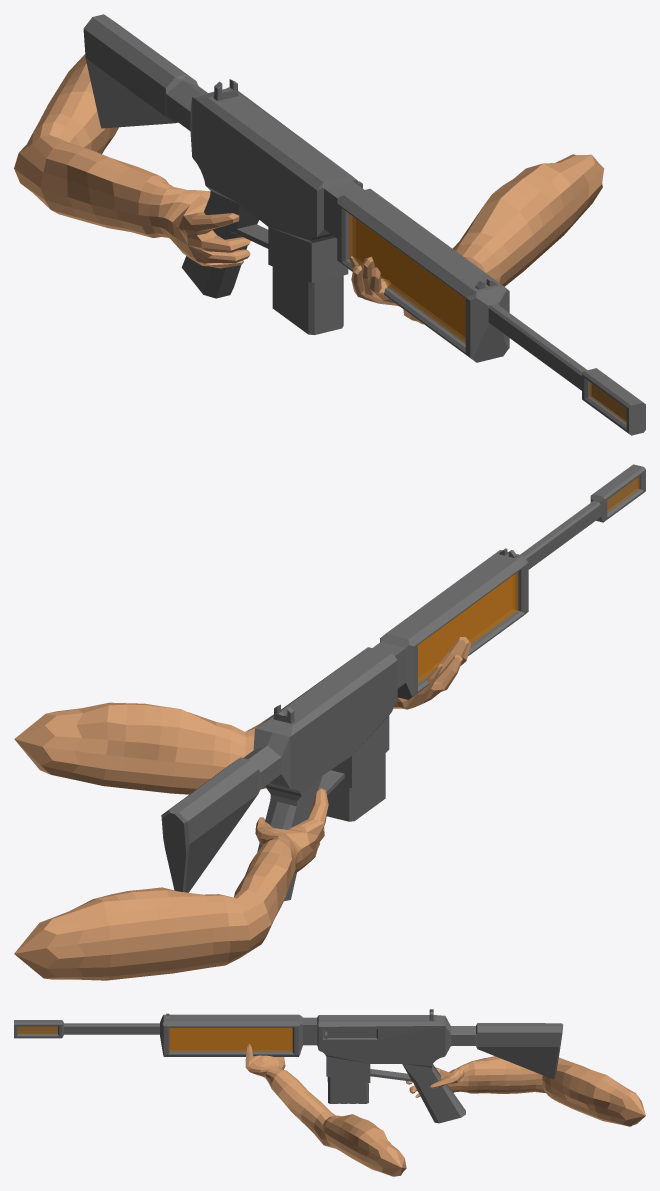
File: PlasmaGunV5.fbx
3 renders of one model, top to bottom at view 1: azimuth 30°, elevation 25°; view 2: azimuth 150°, elevation 25°; view 3: azimuth 270°, elevation 25°, orthographic. The views are drawn at different scales.
Visible parts, largest first — view 1: GUN BASE, Cube, Cube.001, GUN BASE.003; view 2: GUN BASE, Cube, Cube.001, GUN BASE.003; view 3: GUN BASE, Cube, Cube.001, GUN BASE.003, GUN BASE.002.
Part boxes in pixels (box(x1,y1,x2,y2)): GUN BASE: box(83, 14, 645, 435); Cube: box(14, 54, 250, 268); Cube.001: box(349, 154, 604, 324); GUN BASE.003: box(349, 214, 626, 423); GUN BASE: box(161, 464, 645, 901); Cube: box(14, 788, 328, 980); Cube.001: box(14, 637, 470, 794); GUN BASE.003: box(418, 476, 639, 683); GUN BASE: box(14, 1009, 563, 1123); Cube: box(406, 1056, 645, 1126); Cube.001: box(245, 1044, 406, 1176); GUN BASE.003: box(18, 1026, 292, 1051); GUN BASE.002: box(324, 1029, 376, 1038).
Size of the model in its own units: 214 by 104 by 539.
